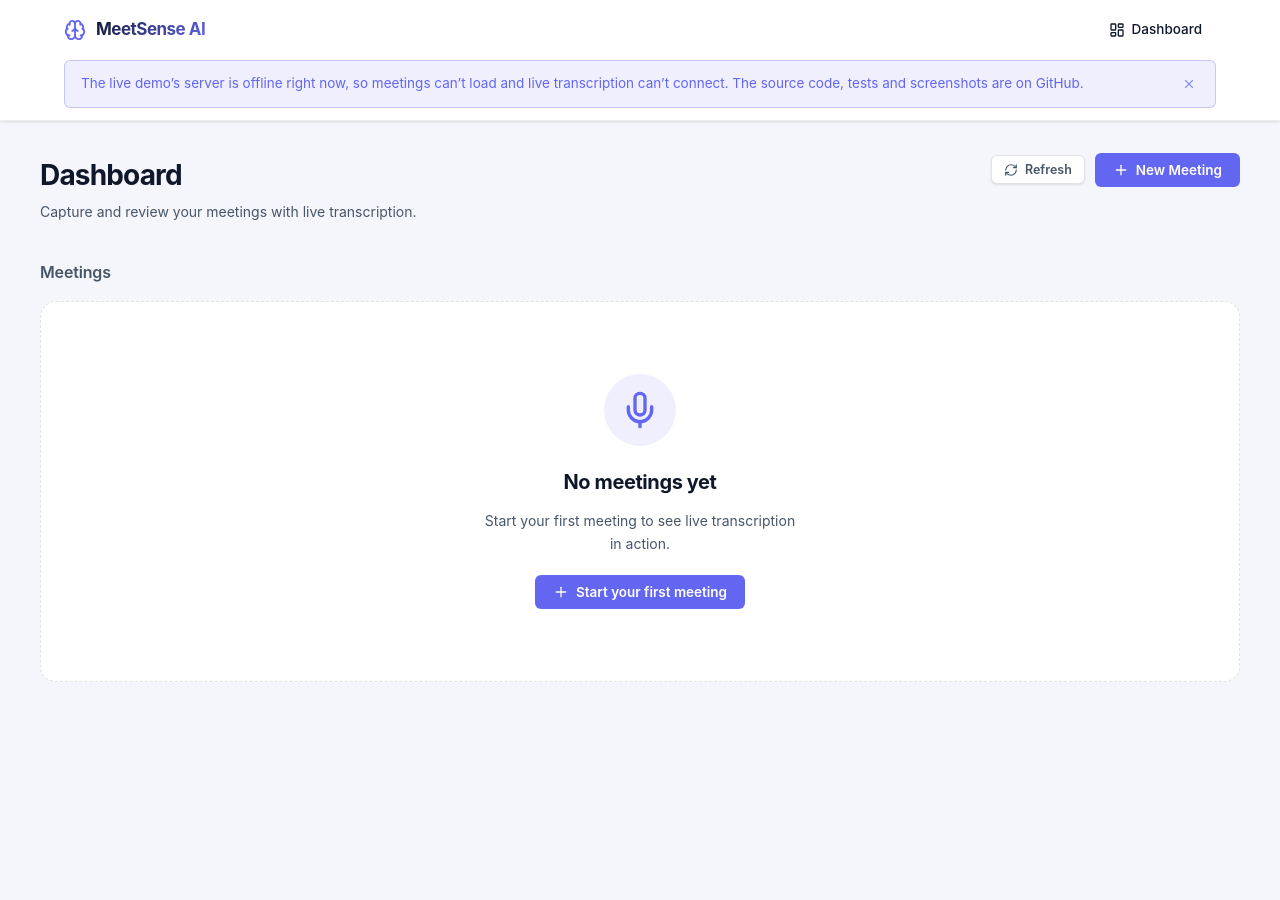
Test: New meeting form › explains failures (0)
Check: the heading "No meetings yet" is shown, box [564,466,716,498]
Click the button "New Meeting" at coordinates (1167, 170), box [1095,153,1240,187]
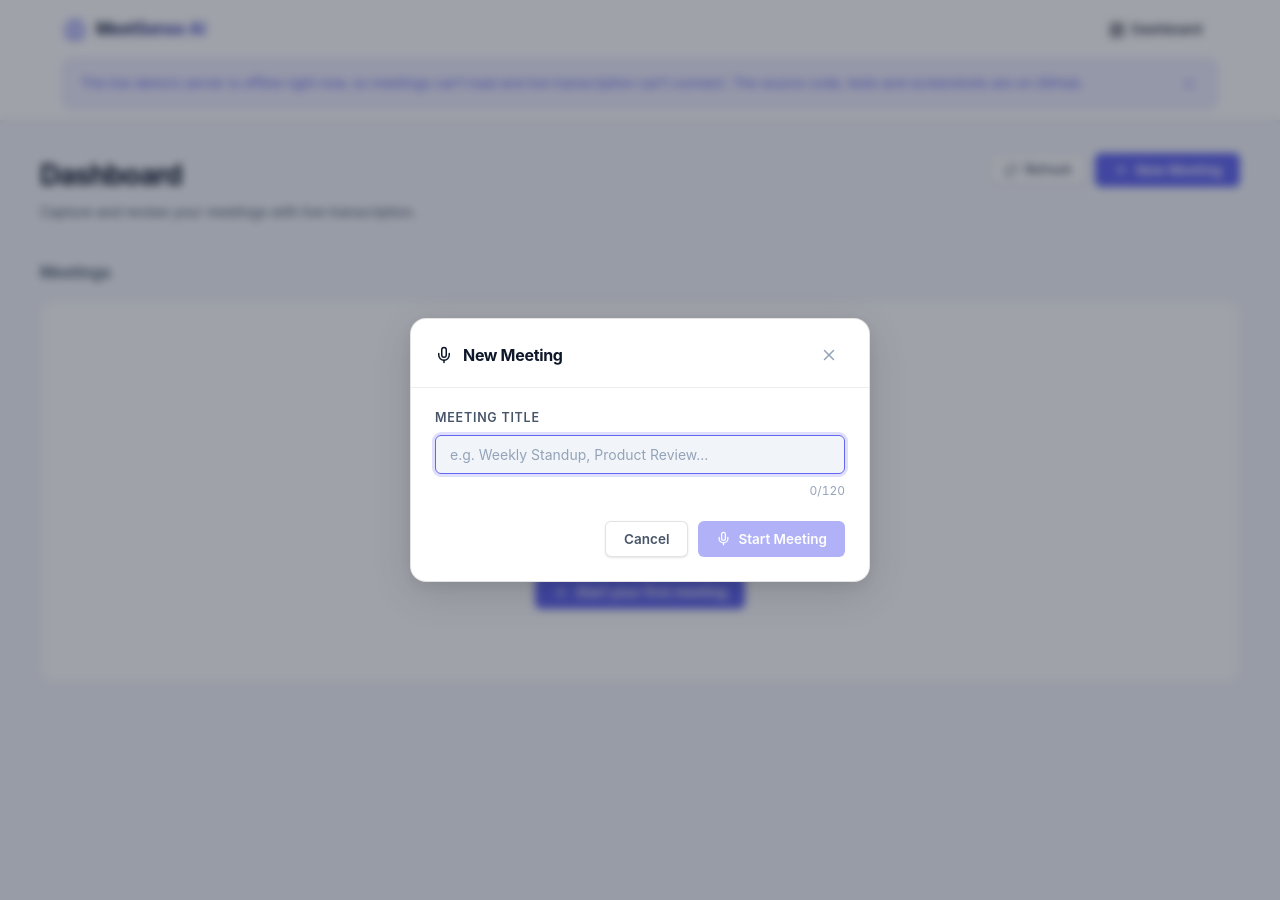
Type "Retro" into the field labelled "Meeting Title" at coordinates (640, 455), box [435,435,845,474]
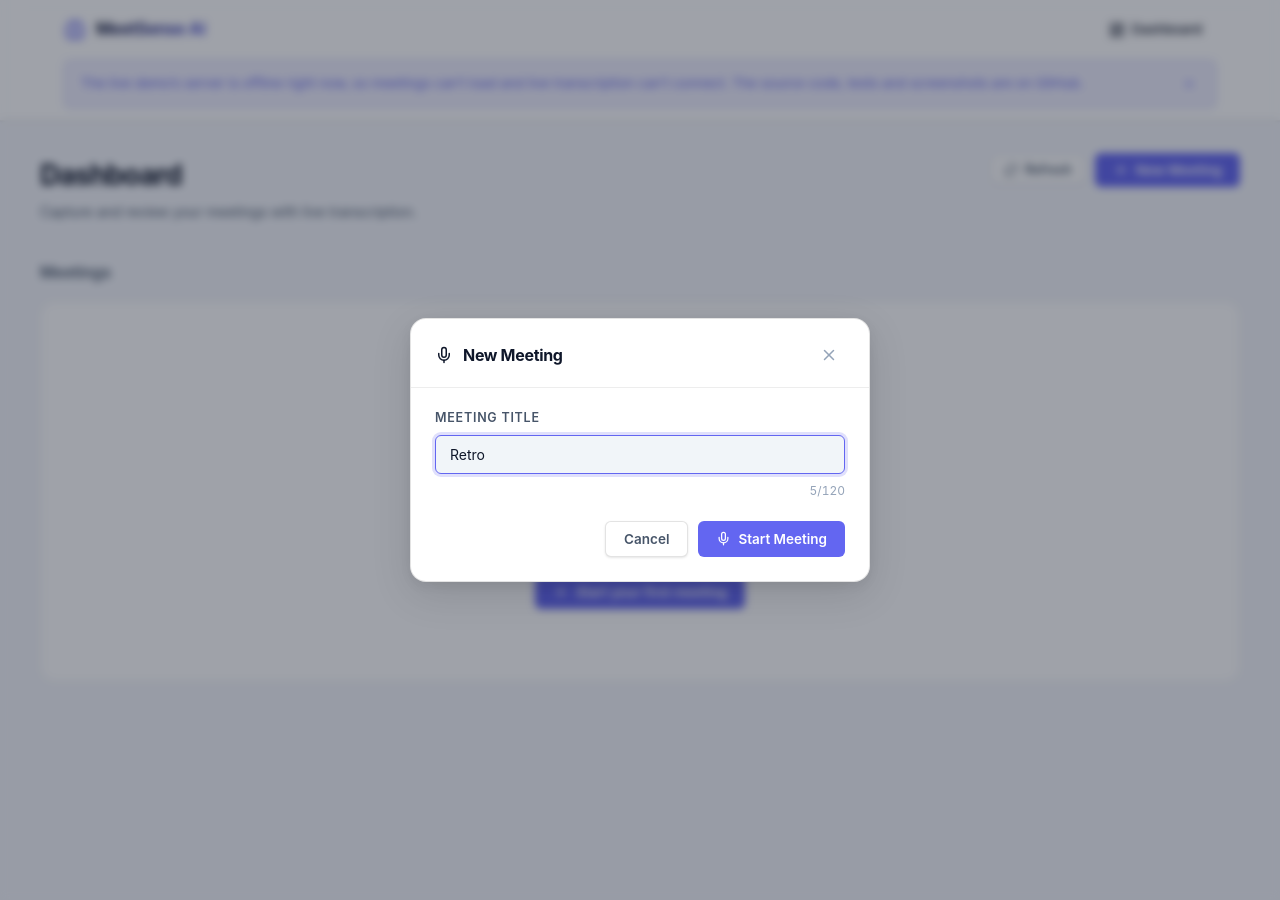
Click the button "Start Meeting" at coordinates (772, 539), box [698,521,845,557]
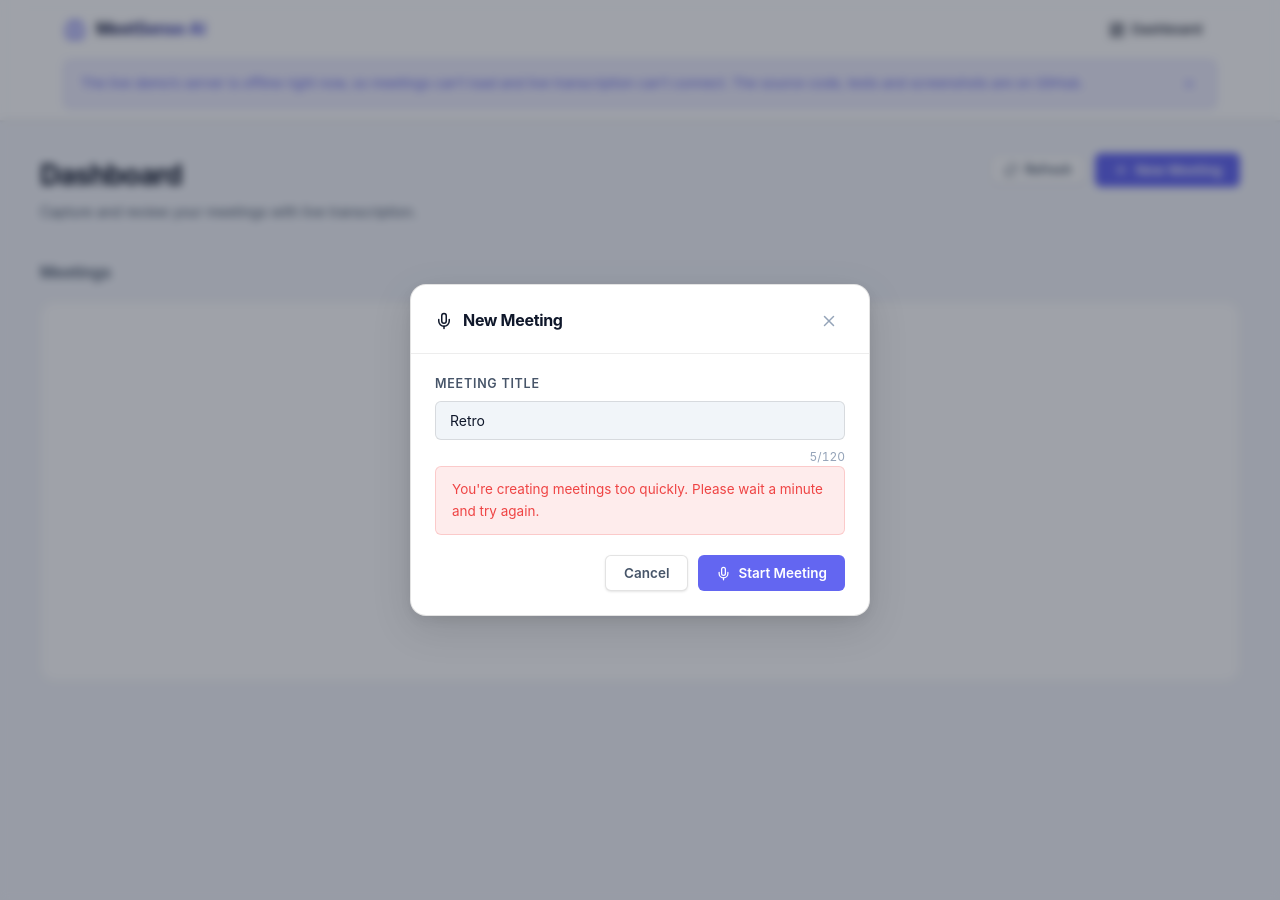
Check: the text "You're creating meetings too quickly" is shown, box [452,481,823,519]
